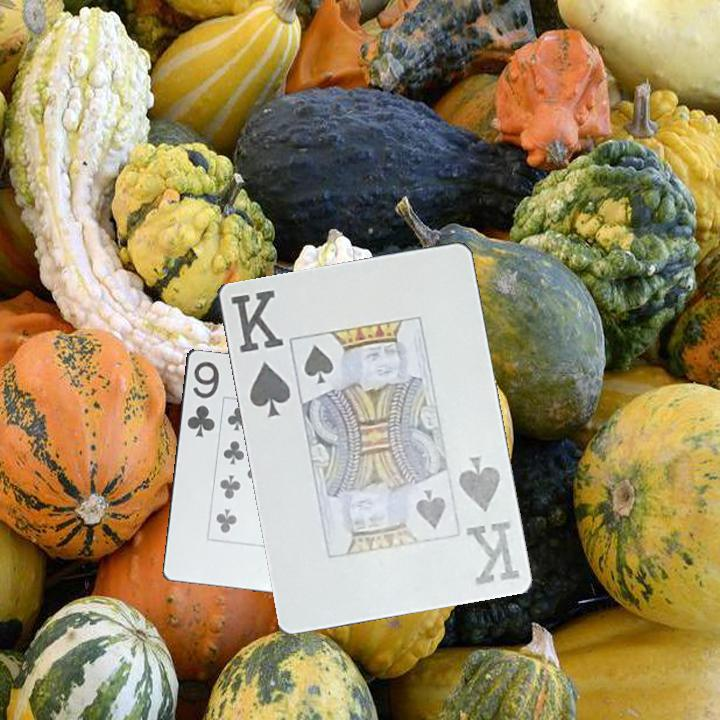9c: (183, 357, 222, 440)
Ks: (454, 452, 522, 588), (226, 286, 293, 421)
